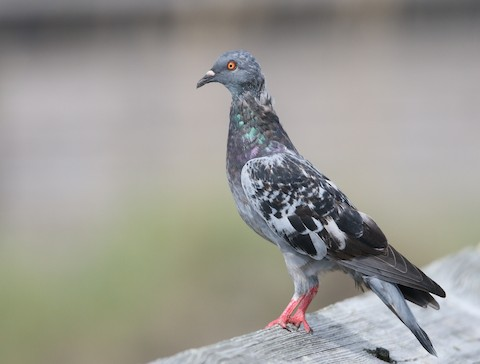pigeon: (191, 47, 453, 358)
